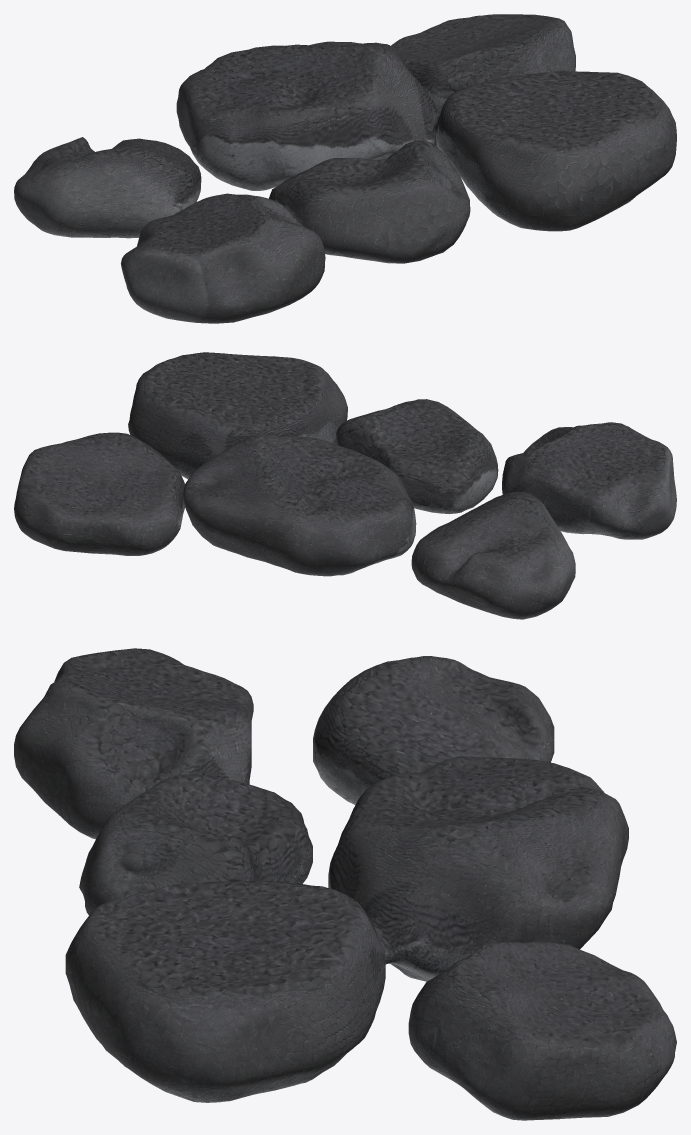
File: small_rocks.glb
3 views of the same model, one above another, from view 1: azimuth 30°, elevation 25°; view 2: azimuth 150°, elevation 25°; view 3: azimuth 270°, elevation 25° (orthographic). The views are drawn at different scales.
Size of the model in its own units: 1.91 by 0.364 by 1.35.
Materials: 1 (1 with a texture image).
